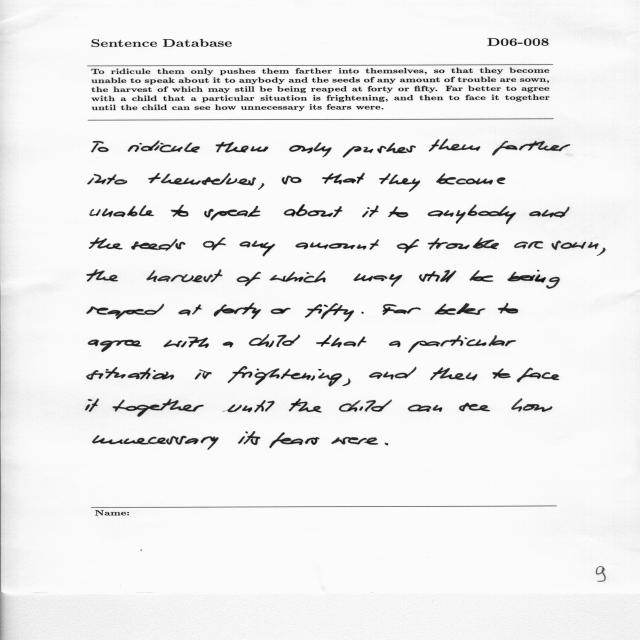word: (228, 366, 342, 387), (408, 335, 516, 353), (93, 435, 219, 450), (428, 204, 516, 224), (112, 399, 204, 417), (148, 173, 256, 186), (492, 141, 570, 156), (87, 304, 164, 319), (87, 367, 174, 380), (342, 143, 416, 158), (507, 270, 560, 289), (147, 270, 223, 283), (305, 303, 354, 322), (295, 239, 379, 250), (428, 237, 499, 250), (128, 141, 200, 153), (436, 173, 506, 185), (204, 206, 260, 221), (270, 432, 320, 448), (379, 173, 420, 192), (90, 205, 154, 217), (284, 205, 343, 218), (214, 303, 261, 319), (249, 334, 300, 348), (88, 339, 142, 352), (339, 399, 392, 412), (289, 142, 332, 158), (354, 273, 403, 287), (270, 271, 326, 283), (429, 139, 480, 152), (223, 400, 274, 413), (131, 239, 186, 251), (430, 367, 477, 381), (517, 368, 559, 383), (435, 303, 486, 315), (316, 335, 367, 347), (369, 367, 416, 380), (511, 398, 553, 412), (216, 142, 269, 153), (240, 241, 276, 256), (163, 337, 209, 348), (322, 173, 365, 184), (552, 240, 599, 250), (289, 399, 322, 413), (529, 207, 570, 218), (419, 270, 456, 282), (88, 174, 128, 185), (383, 304, 421, 315), (87, 269, 118, 282), (89, 238, 122, 250), (331, 437, 378, 445), (237, 272, 261, 286), (397, 239, 419, 253), (203, 238, 226, 251), (470, 270, 494, 282), (178, 304, 202, 316), (238, 432, 260, 445), (459, 403, 490, 412), (408, 405, 442, 412), (514, 241, 543, 249), (388, 207, 408, 218), (498, 303, 518, 314), (171, 205, 189, 217), (492, 368, 511, 379), (91, 141, 109, 152), (85, 398, 99, 412), (362, 206, 378, 218), (195, 369, 212, 380), (282, 176, 302, 185), (271, 308, 291, 314), (597, 248, 606, 256), (342, 378, 351, 386), (223, 342, 234, 348), (389, 341, 400, 347), (258, 183, 264, 190), (361, 312, 364, 314), (385, 443, 388, 445)
